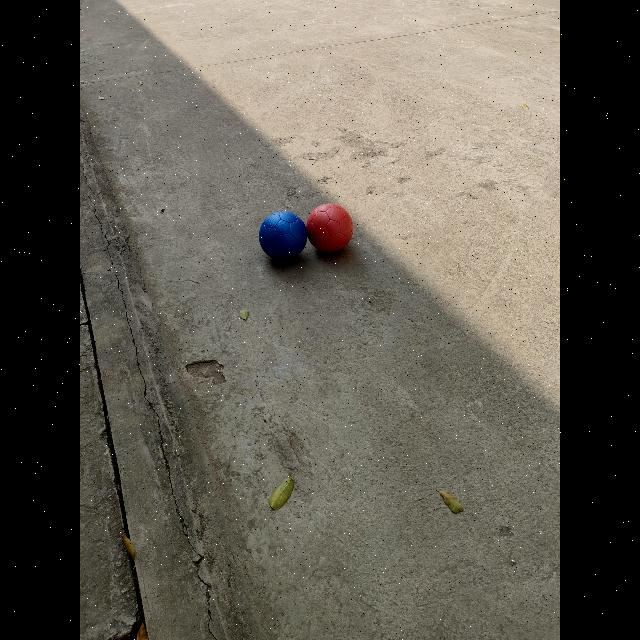B: (258, 211, 307, 259)
R: (307, 203, 354, 252)
